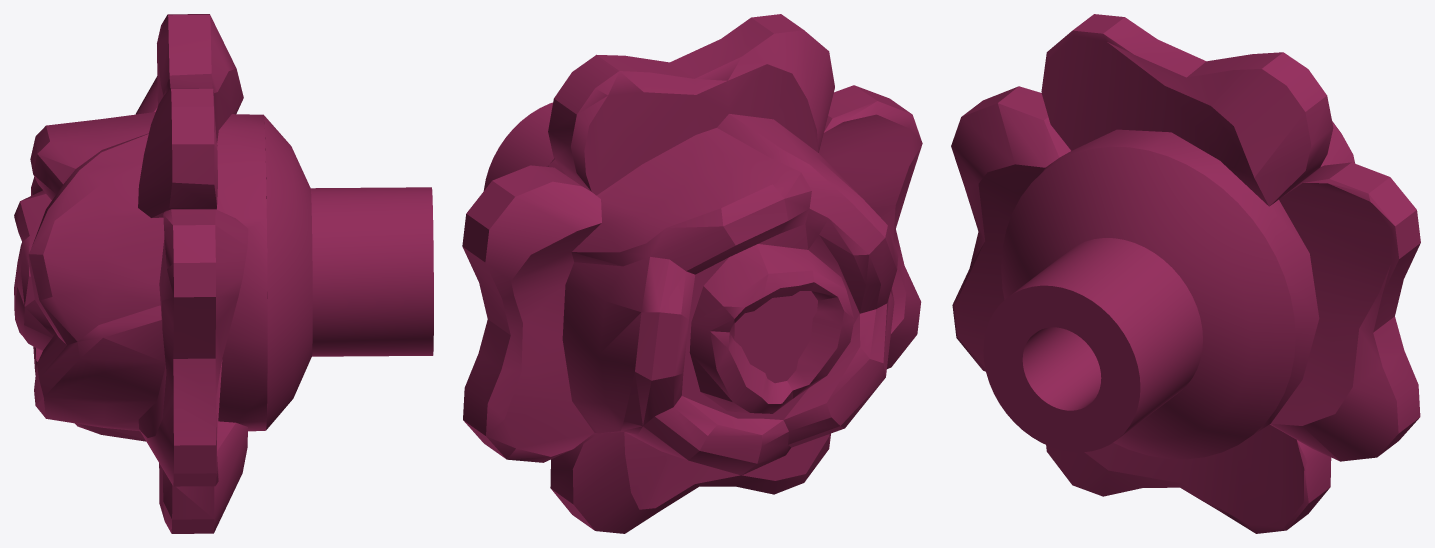
Rendered from plant_flower_rose_with_bar_and_pin_hole_dark_pink.obj.
The picture shows the model from 3 angles, left to right: view 1: azimuth 30°, elevation 25°; view 2: azimuth 150°, elevation 25°; view 3: azimuth 270°, elevation 25°; orthographic projection. The views are drawn at different scales.
Size of the model in its own units: 21.41 by 22.93 by 20.93.
